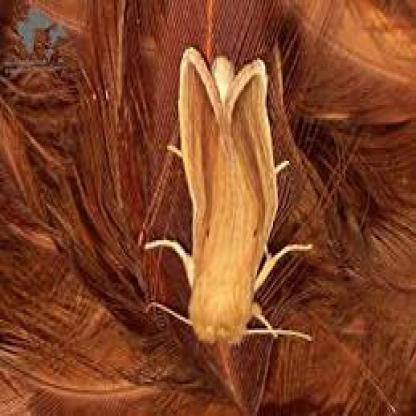stem-borer: (167, 44, 280, 356)
